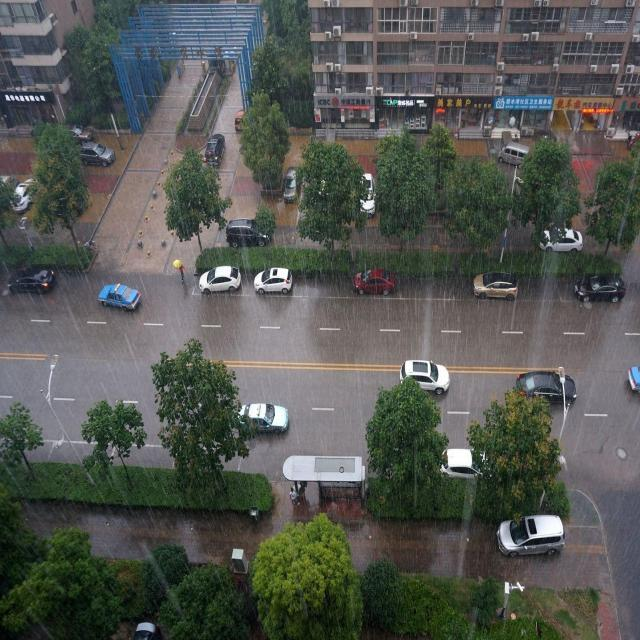car: (494, 514, 566, 558), (514, 368, 580, 406), (437, 446, 502, 483), (398, 357, 450, 394), (234, 400, 290, 434), (573, 272, 628, 304), (471, 268, 520, 300), (6, 265, 56, 293), (350, 265, 398, 294), (96, 281, 142, 310), (537, 226, 583, 254), (198, 263, 240, 293), (252, 264, 293, 294), (9, 176, 37, 215), (76, 141, 115, 166), (356, 171, 376, 218), (202, 131, 225, 168), (496, 143, 532, 166), (281, 163, 301, 204), (60, 122, 93, 144), (232, 106, 248, 130)
